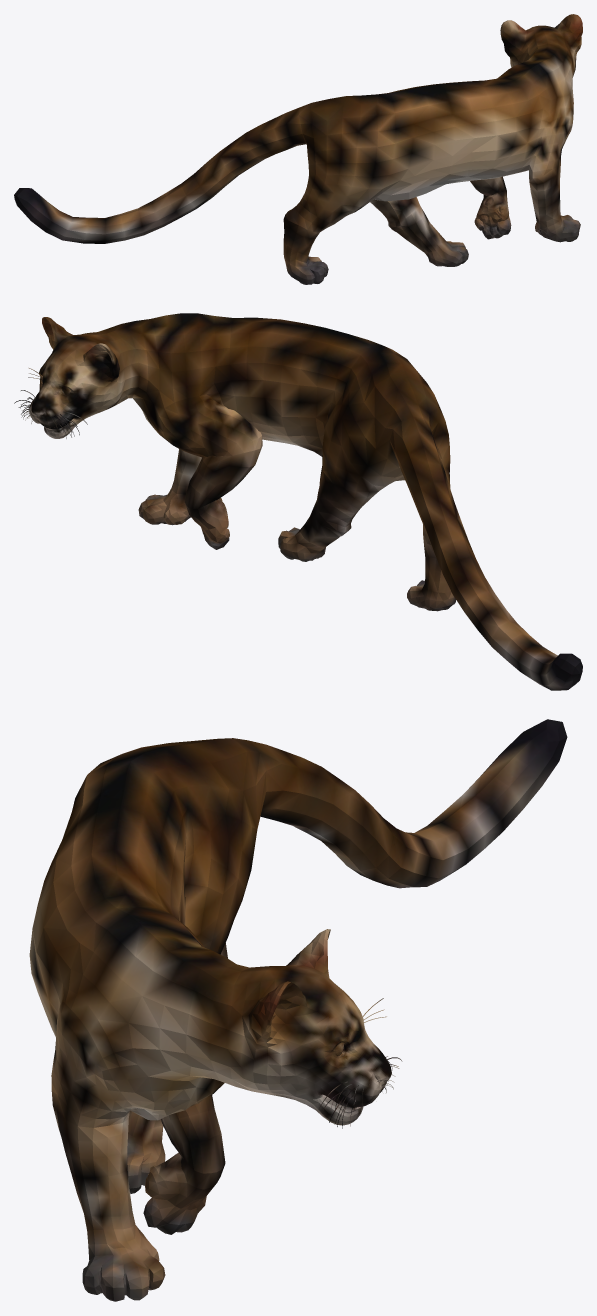
File: leopard.pred.glb
3 renders of one model, top to bottom at view 1: azimuth 30°, elevation 25°; view 2: azimuth 150°, elevation 25°; view 3: azimuth 270°, elevation 25°, orthographic. The views are drawn at different scales.
Parts seen in each view (by area): view 1: root; view 2: root; view 3: root.
Boxes of the visible parts, bbox=[...] form: root: bbox=[14, 14, 582, 284]; root: bbox=[14, 313, 582, 690]; root: bbox=[29, 719, 567, 1301].
Size of the model in its own units: 0.5187 by 0.1801 by 0.2385.
Materials: 1 (1 with a texture image).
